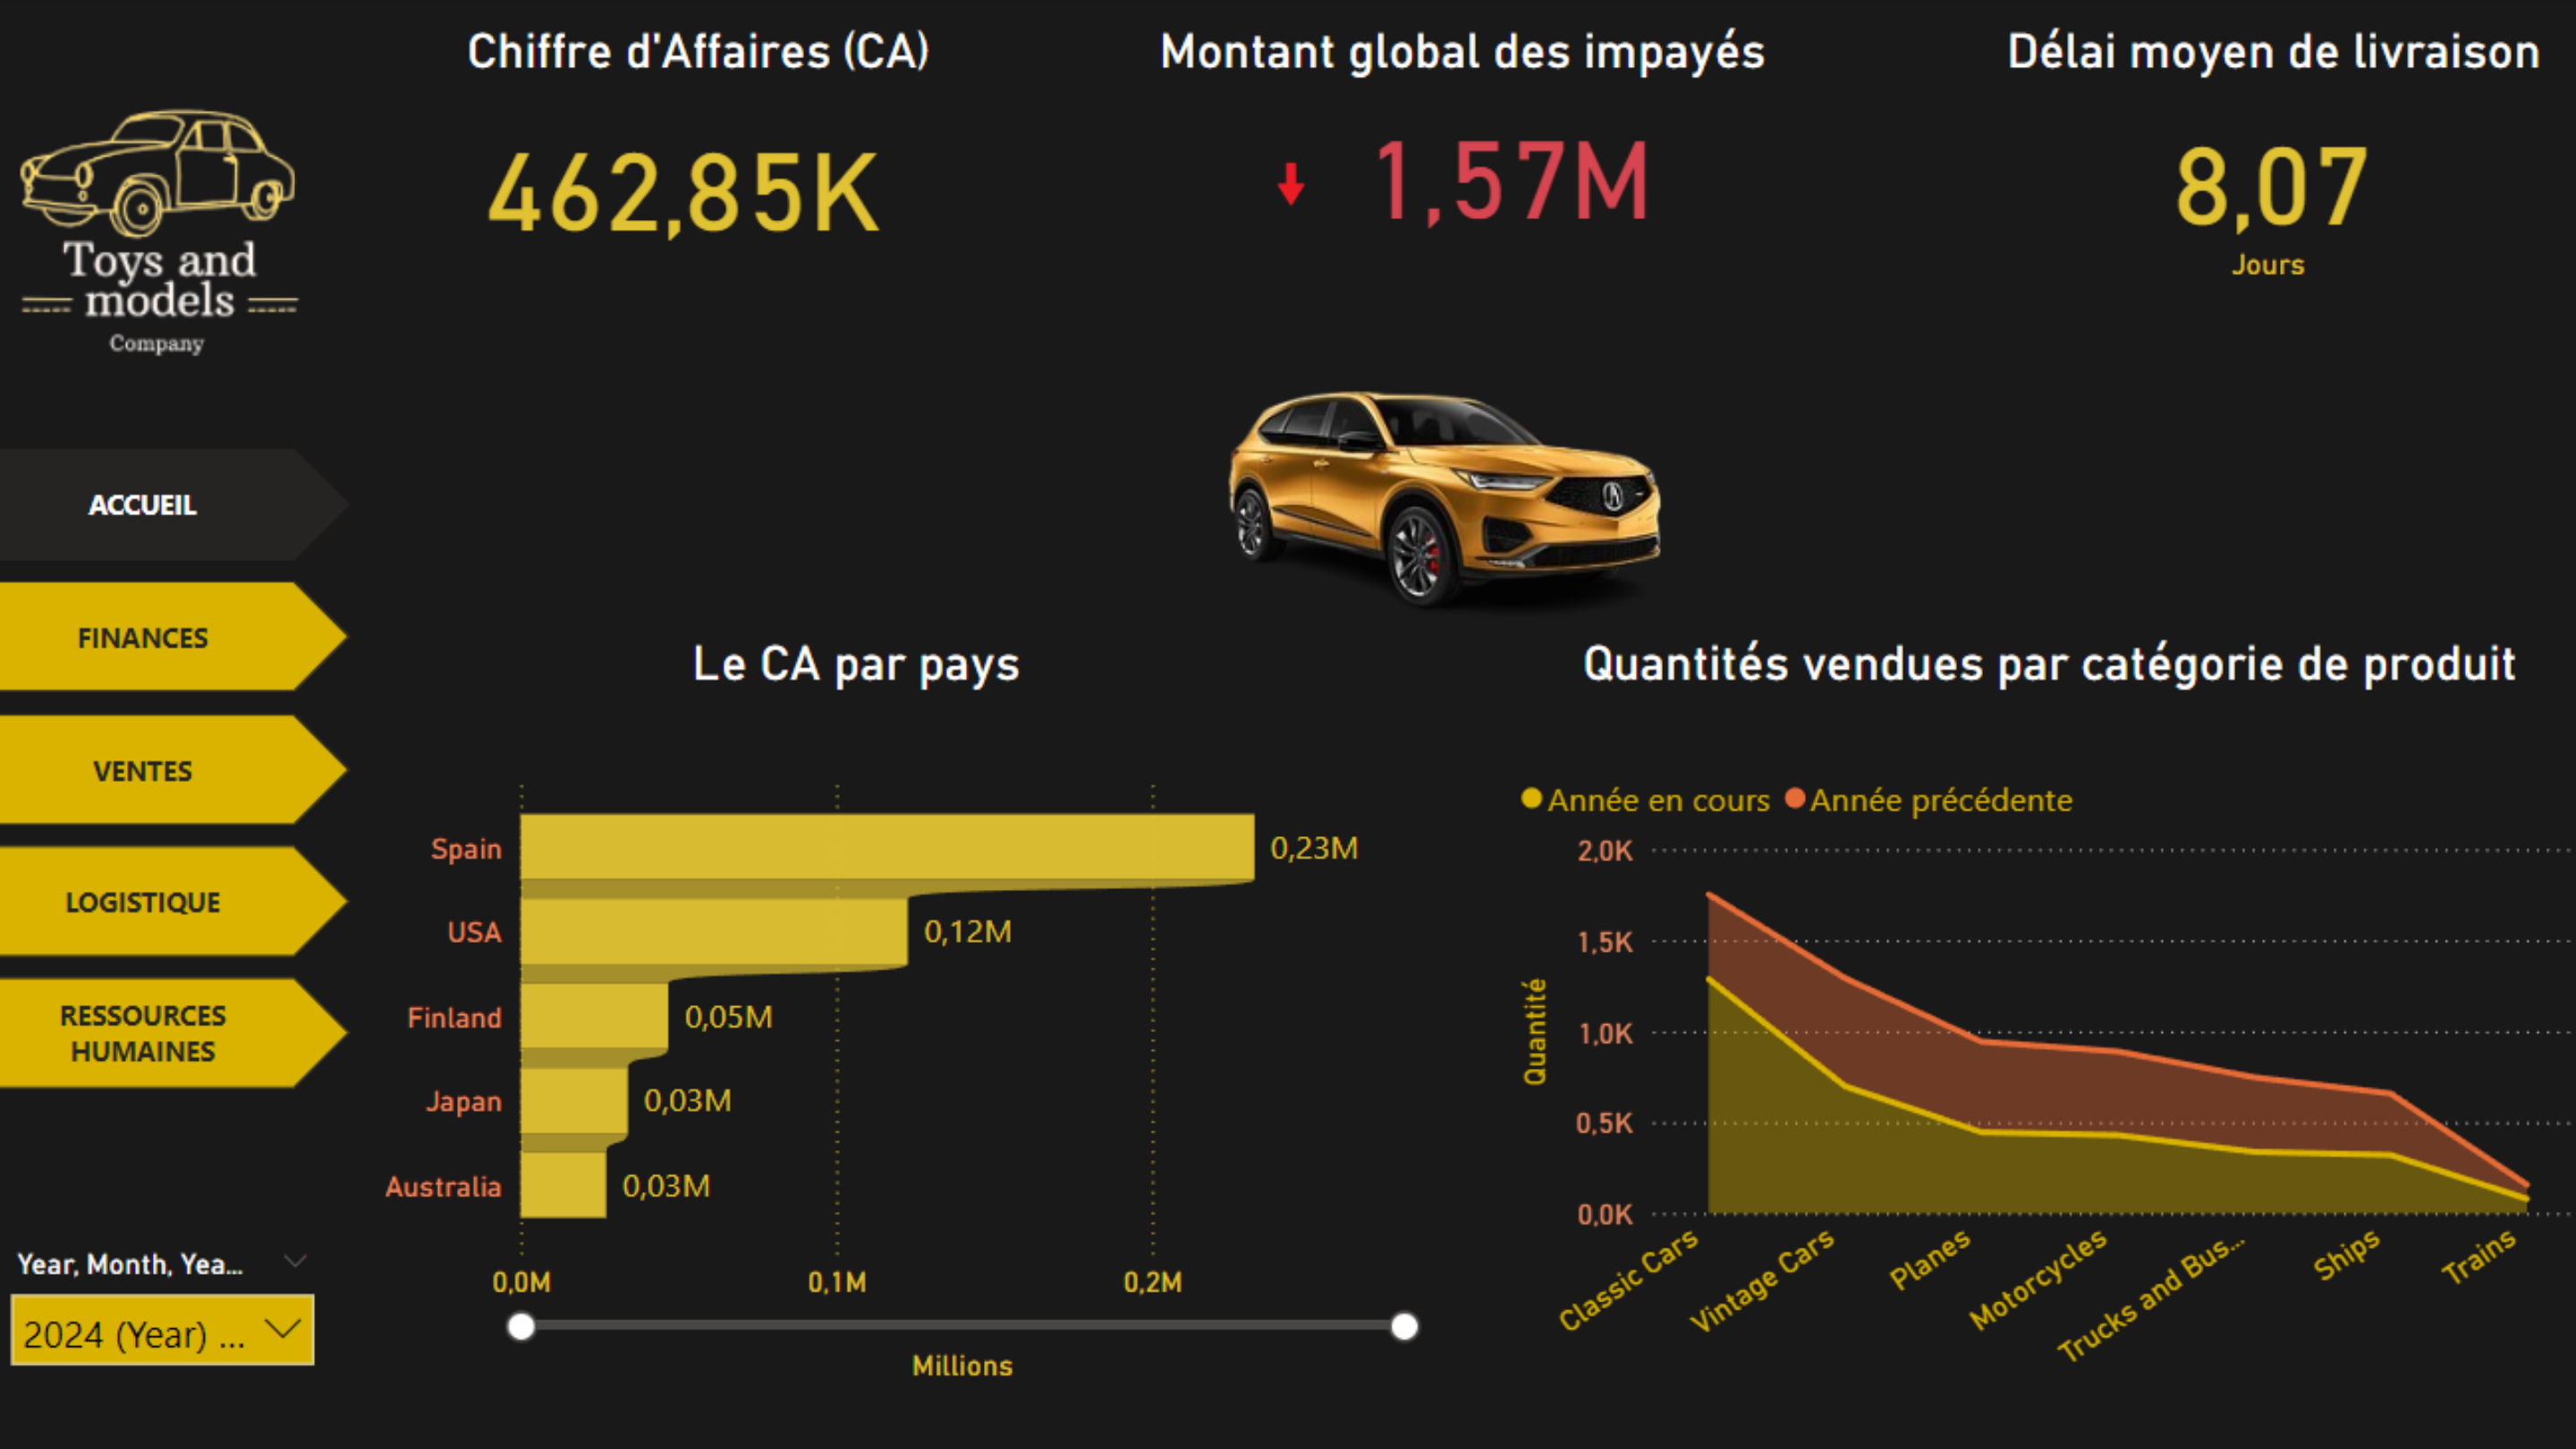

What the dashboard file says about the page in this screenshot:
{"tool":"powerbi","page":{"name":"ACCUEIL","canvas":[1280,720],"ordinal":0},"visuals":[{"type":"barChart","title":"Le CA par Pays","fields":{"Y":["Sum(Requête1.amount)"],"Category":["Requête1.country"]},"box":[187.1,374.2,530.7,313],"z":0},{"type":"card","title":"Chiffre d''affaires","fields":{"Values":["Sum(Requête1.Chiffre d'affaires)"]},"box":[230,47.6,222.6,85.9],"z":1000},{"type":"image","box":[602.8,134.2,230,216.4],"z":2000},{"type":"image","box":[0,0,169.1,223.6],"z":3000},{"type":"pageNavigator","box":[0,223.9,177.9,318.5],"z":4000},{"type":"stackedAreaChart","title":"Quantité de produits vendus par categorie","fields":{"Category":["Requête5.categorie"],"Y":["Sum(Requête5.Qte_produits)","Sum(Requête5.Qte_last_year)"]},"box":[747.2,374.2,533.2,313],"z":5000},{"type":"slicer","fields":{"Values":["Datum.Year","Datum.Month","Datum.Year-Month"]},"box":[0,610.9,169.1,76.4],"z":6000},{"type":"textbox","box":[230,8.7,249.8,43.9],"z":7000},{"type":"textbox","box":[324.1,310.6,204.2,40.4],"z":8000},{"type":"textbox","box":[775.2,310.3,476.6,56.3],"z":9000},{"type":"card","title":"Total commandes non payées","fields":{"Values":["Sum(Total non payées.total_order_value_with_unpaid)"]},"box":[596.6,58.7,301.7,73.6],"z":10000},{"type":"textbox","box":[528.3,8.6,392.5,39.1],"z":11000},{"type":"card","title":"Délais moyen de livraison","fields":{"Values":["Sum(Logistique délai de livraison.avg_delivery_delay_days)"]},"box":[993.5,47.6,260.3,95.8],"z":12000},{"type":"textbox","box":[967.3,8.6,313,44],"z":13000},{"type":"image","box":[624.4,77.9,30.9,30.9],"z":14000}]}

Visuals, with their boxes in screenshot pixels (x1, y1, x2, y2), scaled from the page's 1280x720 canvas onto the 2576x1449 screenshot:
"Le CA par Pays" barChart: BBox(377, 753, 1445, 1383)
"Chiffre d''affaires" card: BBox(463, 96, 911, 268)
image: BBox(1213, 270, 1676, 706)
image: BBox(0, 0, 340, 450)
pageNavigator: BBox(0, 451, 358, 1091)
"Quantité de produits vendus par categorie" stackedAreaChart: BBox(1504, 753, 2575, 1383)
slicer - Datum.Year x Datum.Month: BBox(0, 1230, 340, 1383)
textbox: BBox(463, 18, 966, 106)
textbox: BBox(652, 625, 1063, 707)
textbox: BBox(1560, 624, 2520, 738)
"Total commandes non payées" card: BBox(1200, 118, 1808, 267)
textbox: BBox(1063, 17, 1853, 96)
"Délais moyen de livraison" card: BBox(1999, 96, 2523, 289)
textbox: BBox(1946, 17, 2575, 106)
image: BBox(1257, 157, 1318, 219)
